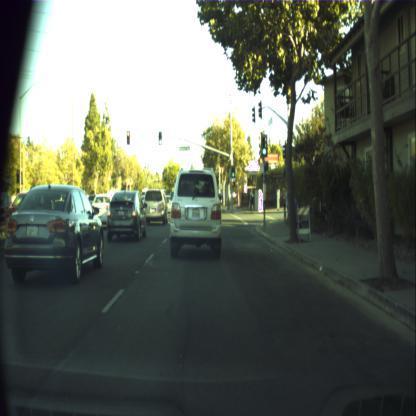Green: (260, 132, 268, 156), (230, 164, 236, 178), (158, 130, 162, 145)
Red: (126, 130, 130, 144)
RedLeft: (16, 168, 19, 183)
